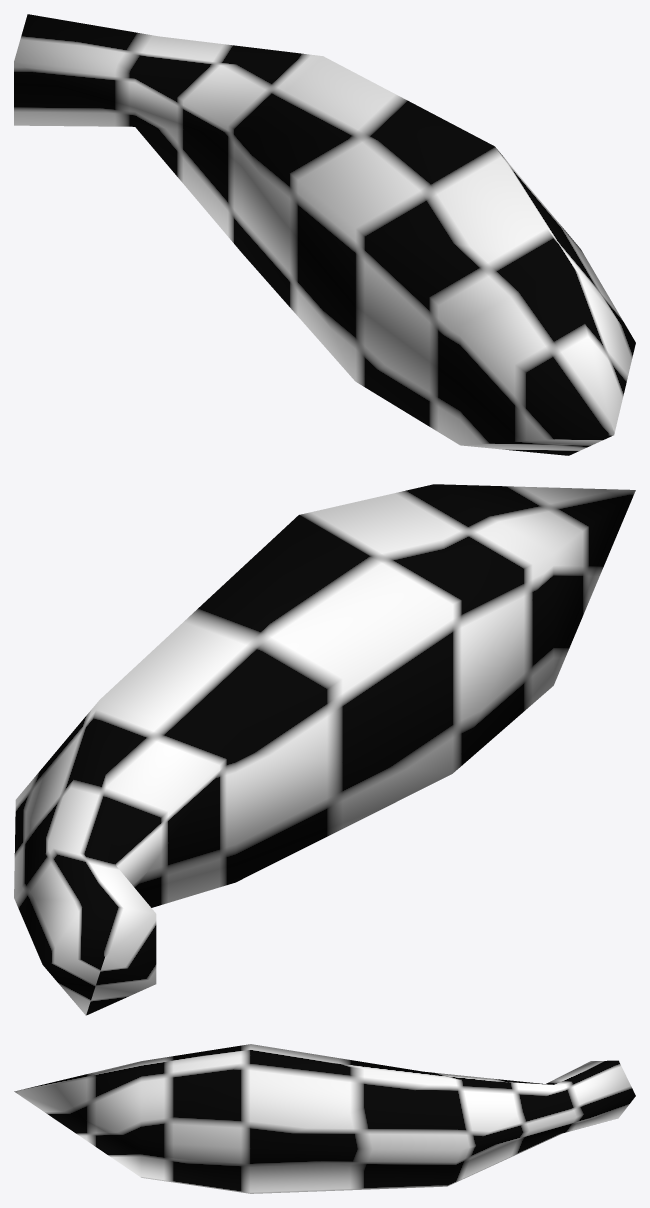
File: initlitr14.dae
3 views of the same model, one above another, from view 1: azimuth 30°, elevation 25°; view 2: azimuth 150°, elevation 25°; view 3: azimuth 270°, elevation 25° (orthographic). The views are drawn at different scales.
Visible parts, largest first — view 1: item; view 2: item; view 3: item.
Boxes of the visible parts, x1,y1,x2,y2 form: item: (14,14,635,455); item: (14,484,635,1015); item: (14,1044,635,1193).
Size of the model in its own units: 0.4677 by 1.73 by 0.4239.
Materials: 1 (1 with a texture image).
